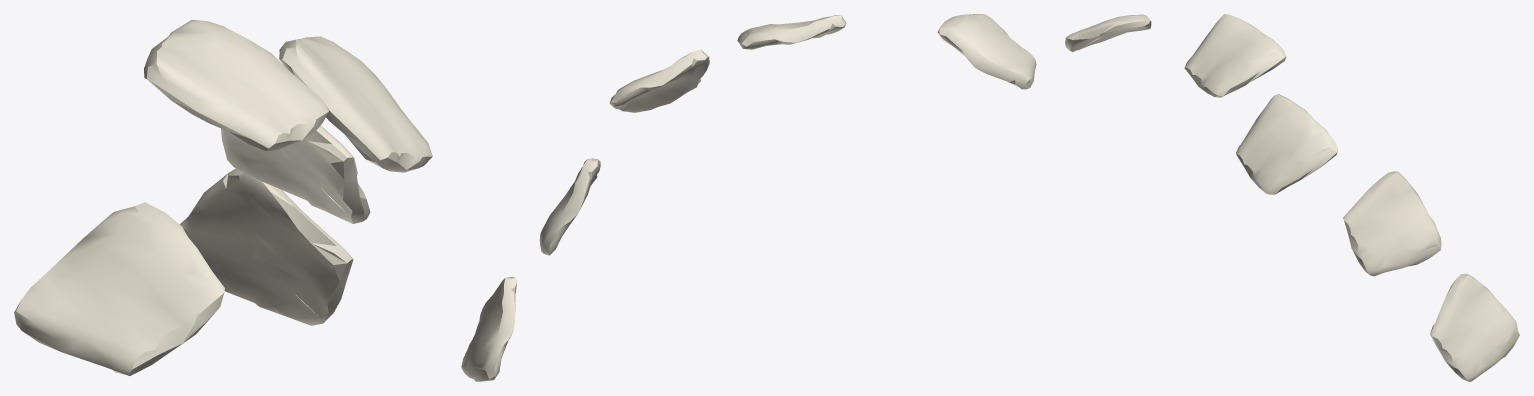
Rendered from fma44274_mm1380.glb.
3 views of the same model, side by side, from view 1: azimuth 30°, elevation 25°; view 2: azimuth 150°, elevation 25°; view 3: azimuth 270°, elevation 25° (orthographic). The views are drawn at different scales.
Parts seen in each view (by area): view 1: FMA44274_MM1380; view 2: FMA44274_MM1380; view 3: FMA44274_MM1380.
Boxes of the visible parts, left/top/right/bottom form: FMA44274_MM1380: left=14, top=19, right=432, bottom=375; FMA44274_MM1380: left=461, top=14, right=1036, bottom=381; FMA44274_MM1380: left=1065, top=14, right=1519, bottom=381.
Bounding box in the file's own units: 0.0432 × 0.0345 × 0.0527.
